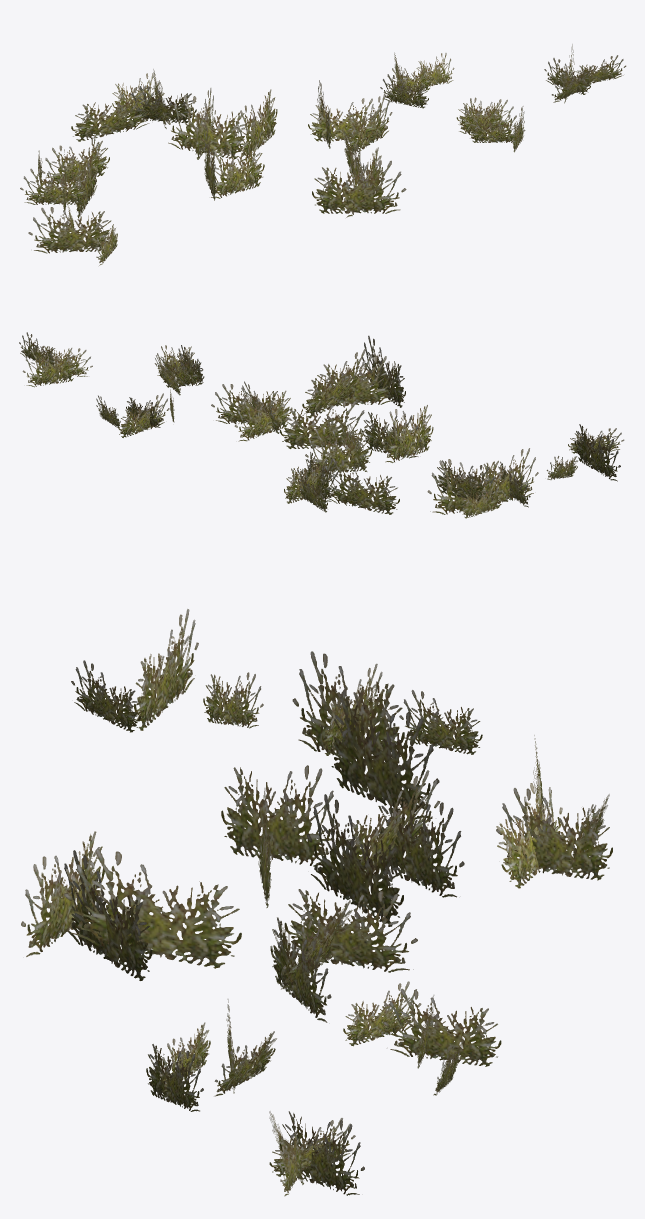
File: DN_grass05d.FBX
3 views of the same model, one above another, from view 1: azimuth 30°, elevation 25°; view 2: azimuth 150°, elevation 25°; view 3: azimuth 270°, elevation 25° (orthographic). The views are drawn at different scales.
Parts seen in each view (by area): view 1: DN_grass05d; view 2: DN_grass05d; view 3: DN_grass05d.
Boxes of the visible parts, <box> form: DN_grass05d: <box>20,44,626,265</box>; DN_grass05d: <box>19,332,624,518</box>; DN_grass05d: <box>21,609,612,1196</box>.
Bounding box in the file's own units: 284 × 44.05 × 136.
